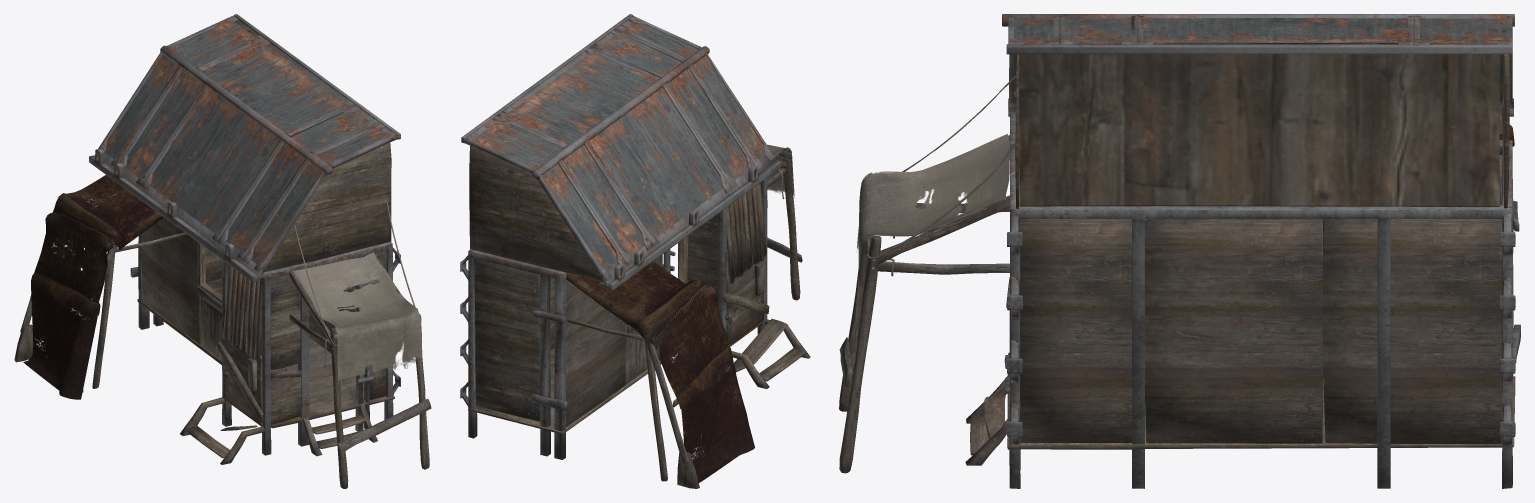
Rendered from old_wooden_barn.glb.
3 renders of one model, left to right at view 1: azimuth 30°, elevation 25°; view 2: azimuth 150°, elevation 25°; view 3: azimuth 270°, elevation 25°, orthographic. The views are drawn at different scales.
Visible parts, largest first — view 1: Plane.005; view 2: Plane.005; view 3: Plane.005.
Boxes of the visible parts, x1,y1,x2,y2 form: Plane.005: [14, 14, 431, 488]; Plane.005: [460, 14, 810, 488]; Plane.005: [839, 14, 1520, 488].
Bounding box in the file's own units: 3.87 × 4.64 × 6.41.
6 materials, 6 textured.
